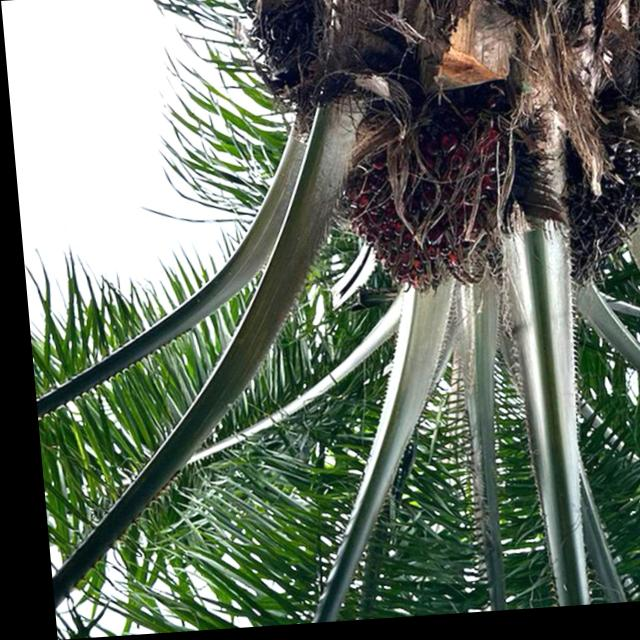ripe: (332, 146, 469, 304), (547, 147, 640, 287)
